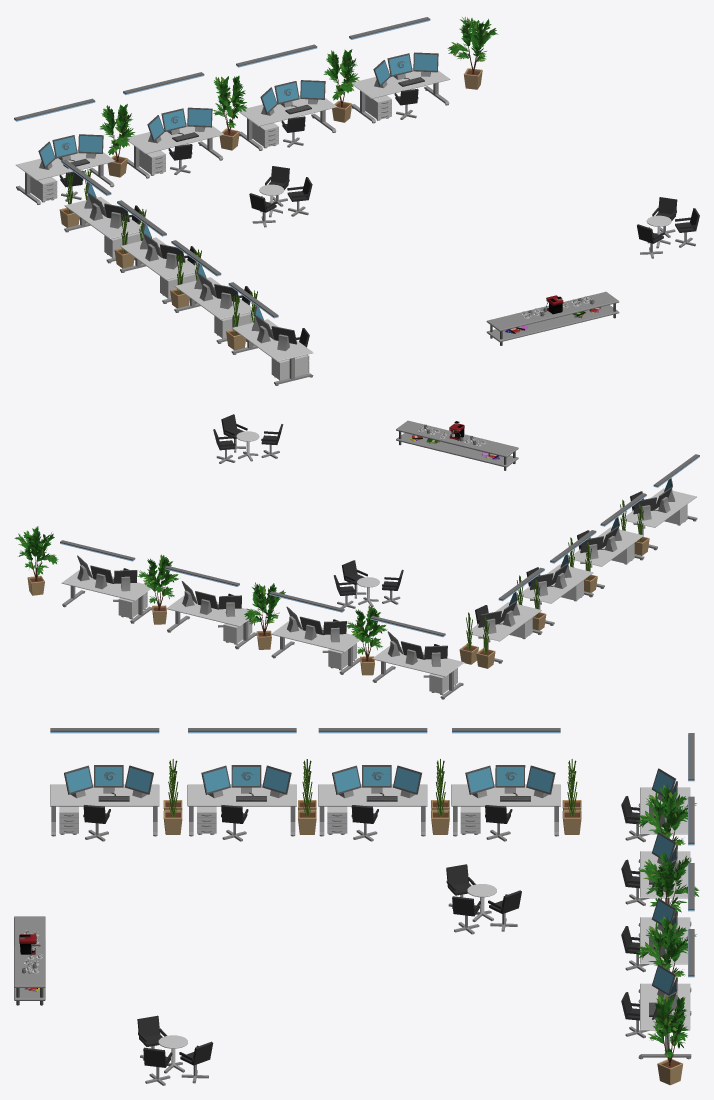
File: d-roomcomp-l-itdepartment-in.glb
3 renders of one model, top to bottom at view 1: azimuth 30°, elevation 25°; view 2: azimuth 150°, elevation 25°; view 3: azimuth 270°, elevation 25°, orthographic. The views are drawn at different scales.
Parts seen in each view (by area): view 1: desk.020, desk.021, desk.022, desk.023, desk.027, desk.026, drawer-flat.013, desk.024, desk.025, table_chair.018, table_chair.021, plantBushyFernyBig.015 (+4 smaller); view 2: desk.020, desk.023, desk.022, desk.021, drawer-flat.013, desk.024, desk.027, desk.025, desk.026, table_chair.021, table_chair.018, plantBushyFernyBig.015 (+6 smaller); view 3: desk.025, desk.026, desk.024, desk.027, desk.020, desk.022, table_chair.021, table_chair.018, desk.021, desk.023, drawer-flat.013, plantBushyFernyBig.015 (+8 smaller).
Part boxes in pixels (<box>): desk.020: <box>349,17,450,123</box>; desk.021: <box>236,44,336,150</box>; desk.022: <box>123,72,224,178</box>; desk.023: <box>14,98,115,204</box>; desk.027: <box>228,282,313,385</box>; desk.026: <box>171,240,252,343</box>; drawer-flat.013: <box>486,291,619,345</box>; desk.024: <box>61,159,142,263</box>; desk.025: <box>117,200,197,303</box>; table_chair.018: <box>249,166,312,227</box>; table_chair.021: <box>637,197,699,258</box>; plantBushyFernyBig.015: <box>447,17,498,89</box>; desk.020: <box>60,540,152,623</box>; desk.023: <box>370,616,464,699</box>; desk.022: <box>269,591,360,674</box>; desk.021: <box>164,565,256,649</box>; drawer-flat.013: <box>396,420,518,470</box>; desk.024: <box>466,567,544,663</box>; desk.027: <box>622,454,699,550</box>; desk.025: <box>518,530,596,625</box>; desk.026: <box>570,493,646,588</box>; table_chair.021: <box>213,414,283,463</box>; table_chair.018: <box>333,560,403,608</box>; plantBushyFernyBig.015: <box>14,526,58,595</box>; desk.025: <box>318,728,427,841</box>; desk.026: <box>187,728,296,841</box>; desk.024: <box>451,728,560,841</box>; desk.027: <box>50,728,159,841</box>; desk.020: <box>621,929,694,1059</box>; desk.022: <box>621,796,694,926</box>; table_chair.021: <box>137,1015,213,1085</box>; table_chair.018: <box>446,864,521,934</box>; desk.021: <box>621,863,694,992</box>; desk.023: <box>621,733,694,862</box>; drawer-flat.013: <box>14,916,45,1005</box>; plantBushyFernyBig.015: <box>648,995,688,1085</box>.
Size of the model in its own units: 22.27 by 3.17 by 23.07.
4 materials, 3 textured.
